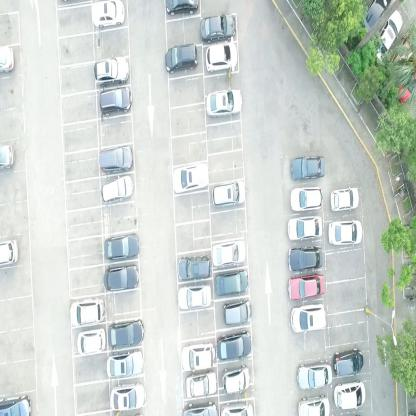car: (374, 6, 403, 62), (296, 357, 333, 391), (93, 54, 130, 87), (287, 272, 326, 302), (172, 161, 208, 193), (70, 294, 106, 326), (395, 53, 416, 105), (165, 42, 198, 75), (291, 302, 327, 332), (108, 318, 144, 348), (110, 381, 146, 411), (180, 342, 216, 371), (98, 144, 134, 173), (107, 350, 143, 379), (361, 0, 392, 33), (212, 178, 245, 209), (99, 83, 132, 114), (288, 243, 323, 272), (217, 331, 252, 360), (201, 13, 236, 42), (103, 232, 139, 260), (205, 42, 236, 74), (334, 379, 367, 409), (101, 174, 134, 204), (213, 238, 247, 267), (104, 265, 138, 294), (328, 218, 364, 245), (287, 214, 323, 241), (178, 254, 214, 281), (206, 90, 242, 117), (177, 284, 213, 310), (332, 348, 364, 377), (185, 369, 217, 398), (76, 327, 107, 356), (216, 268, 249, 295), (223, 363, 250, 396), (290, 186, 324, 212), (91, 0, 125, 26), (290, 155, 324, 180), (223, 297, 252, 326), (298, 394, 332, 416), (0, 392, 31, 416), (330, 189, 359, 211), (182, 400, 219, 416), (164, 0, 200, 16), (220, 400, 255, 416), (0, 237, 18, 264), (0, 43, 14, 76), (0, 141, 14, 171)
